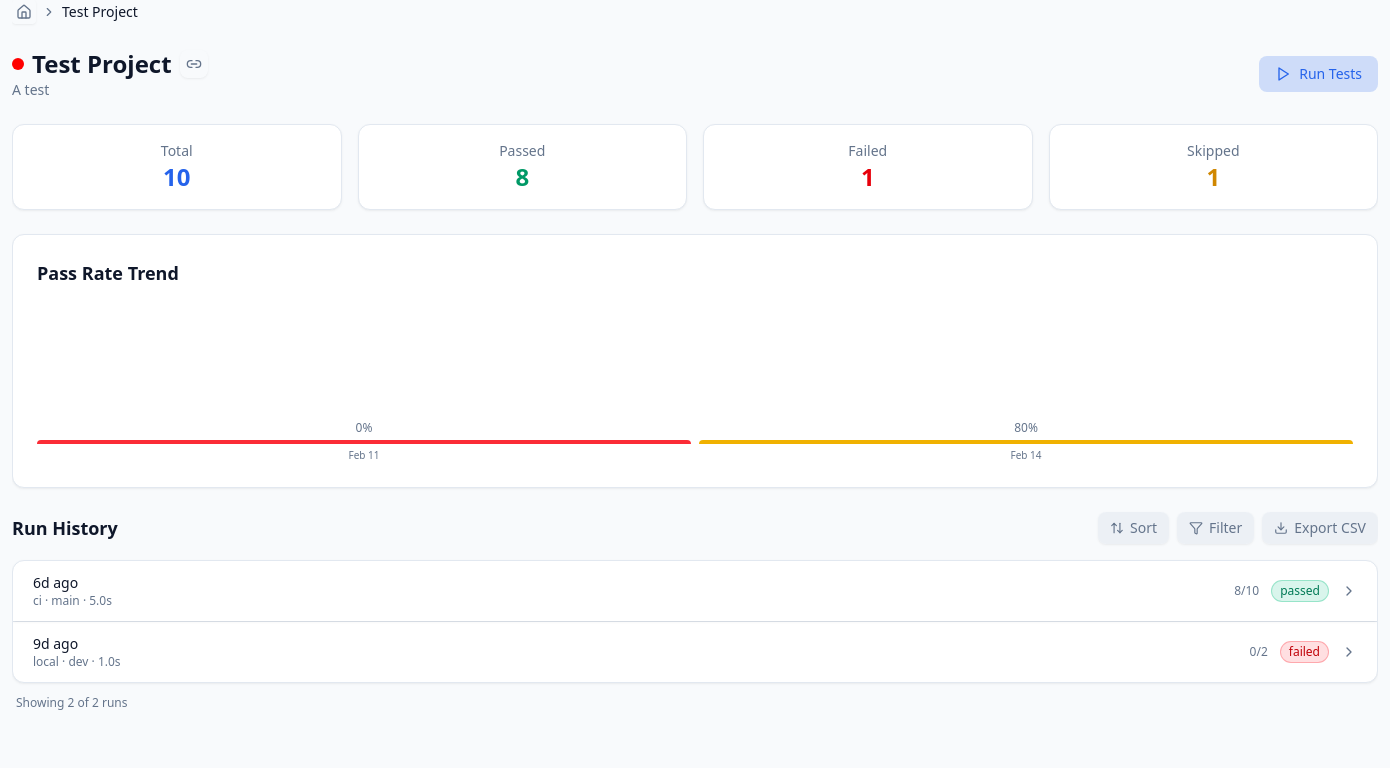
Test case: ProjectClient › clears all filters from filter panel
The image size is (1390, 768).
Click the button with aria-label "toggle filters".
click(1216, 528)  # box [1177,512,1254,544]
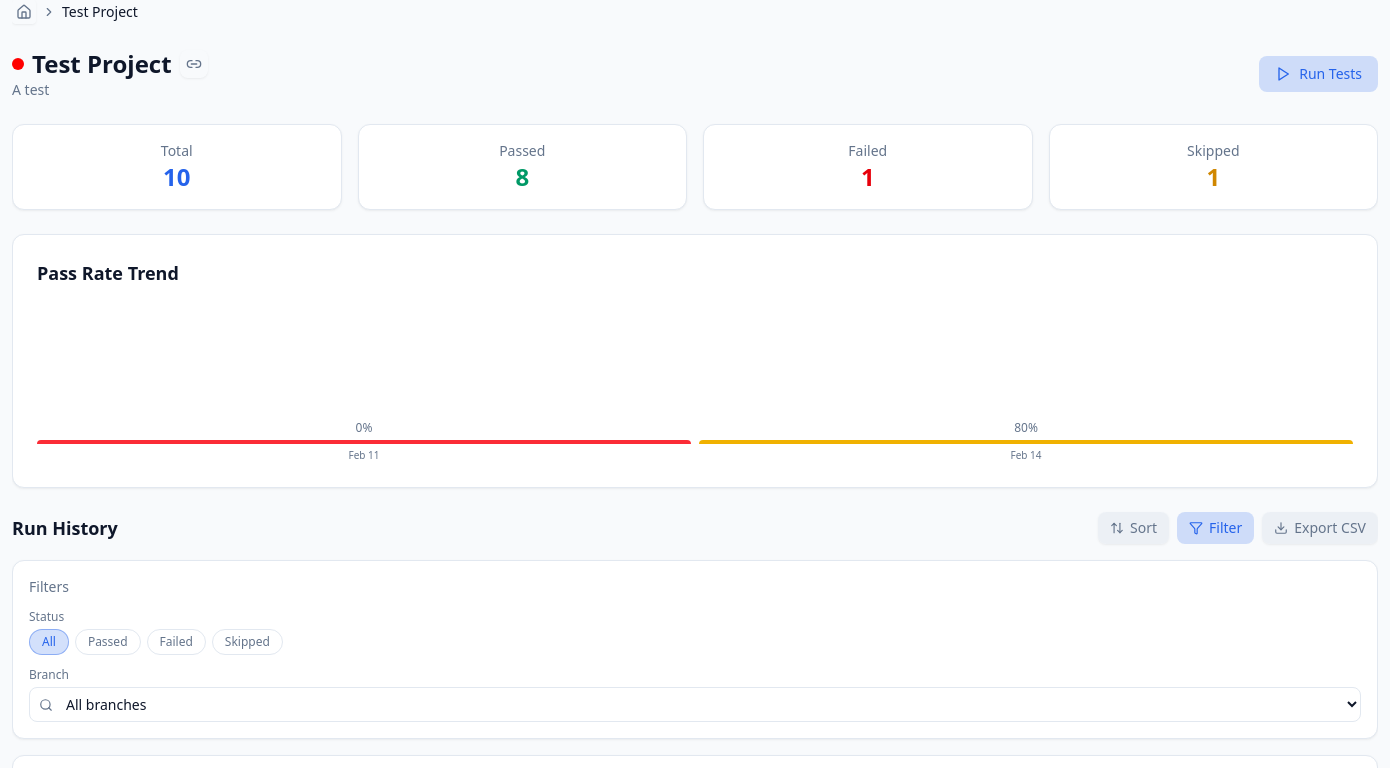
Click the radio button "Failed".
click(176, 642)  # box [146,629,206,655]
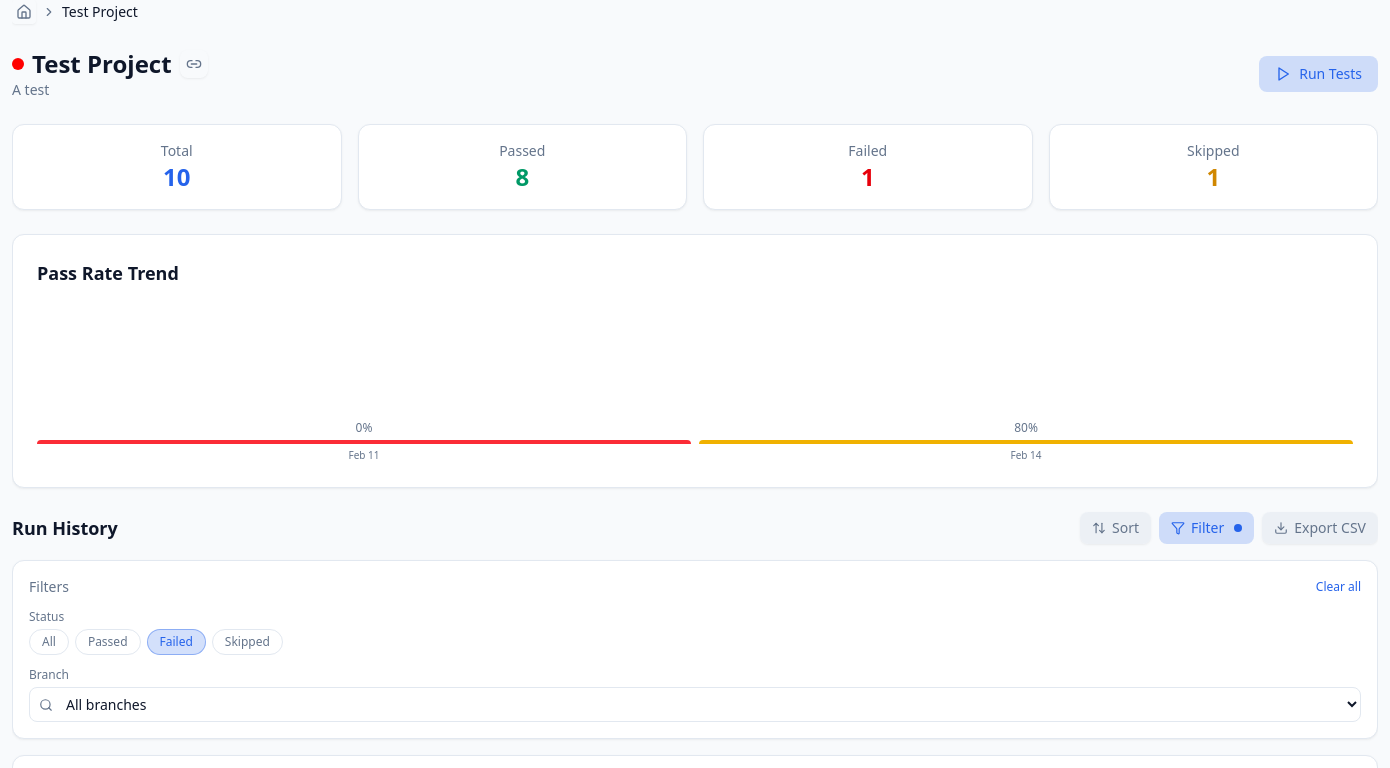
// "Clear all" link should appear
Click the button "Clear all".
click(1338, 587)  # box [1316,579,1361,595]
(page scrolled)
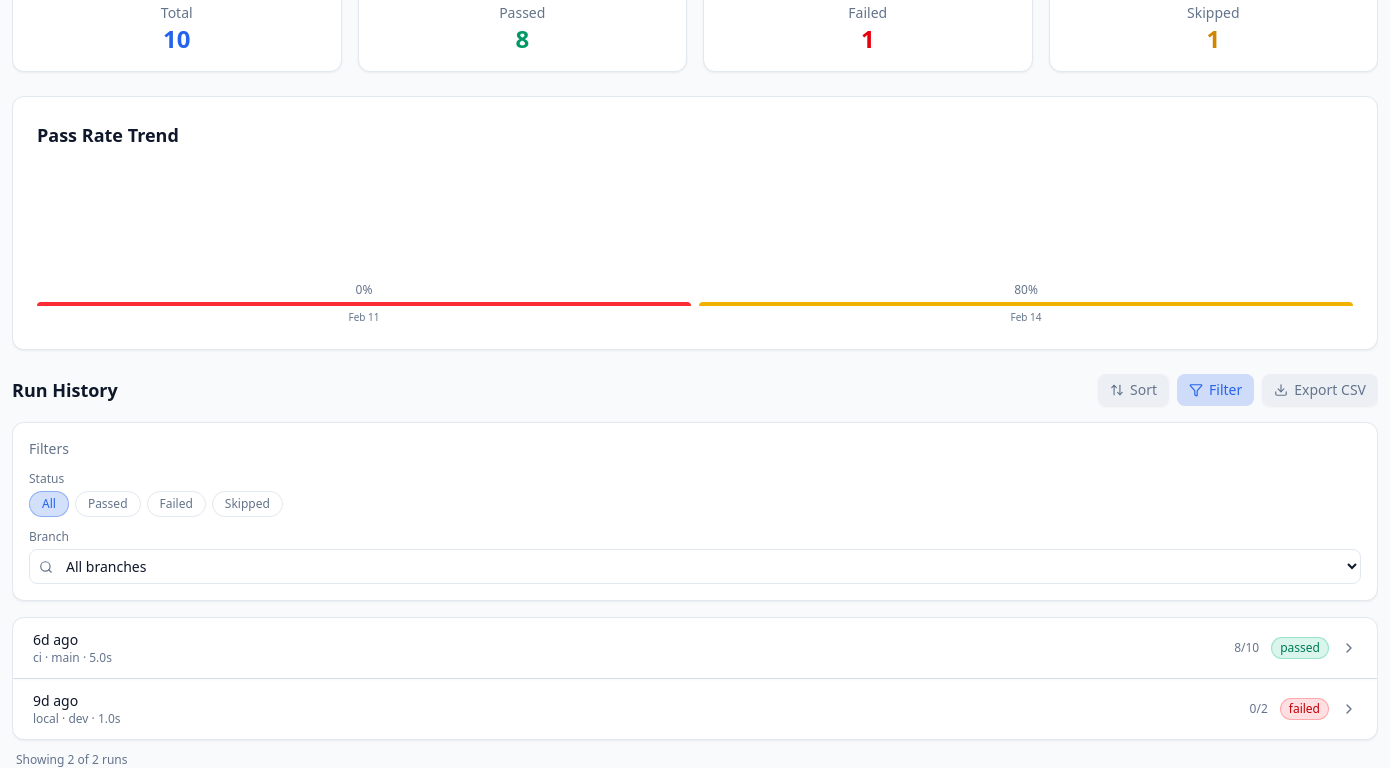
Check: the text "8/10" is shown, box [1234,640,1259,656]
